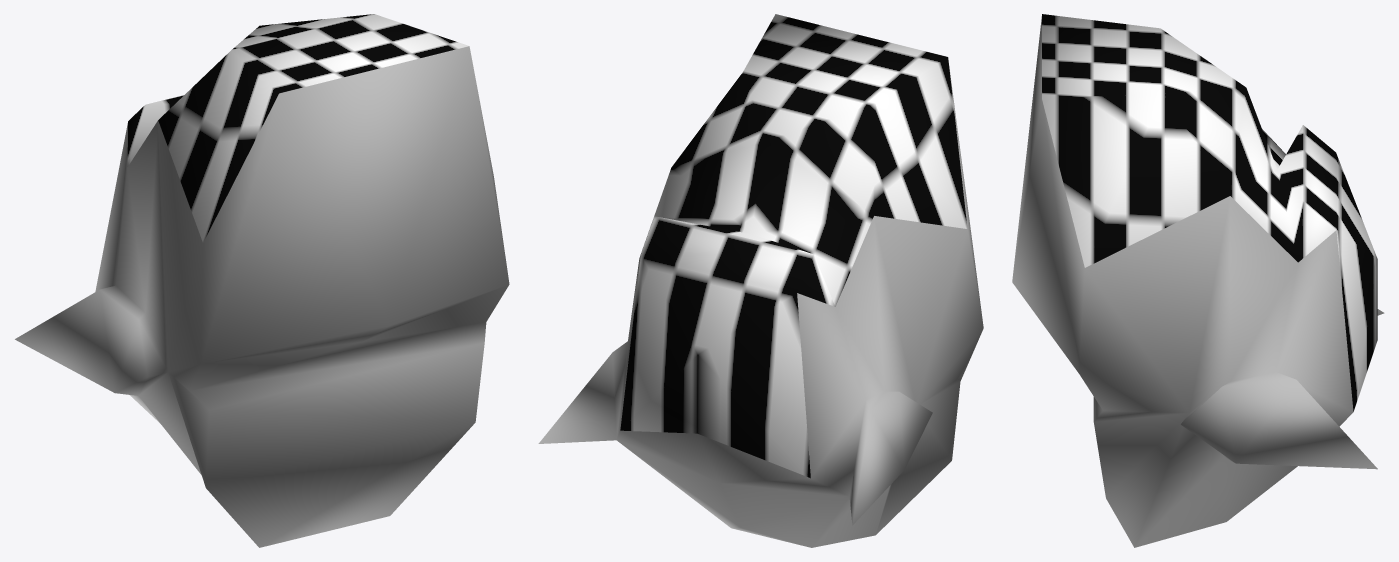
File: infaunmoor.dae
The picture shows the model from 3 angles, left to right: view 1: azimuth 30°, elevation 25°; view 2: azimuth 150°, elevation 25°; view 3: azimuth 270°, elevation 25°; orthographic projection. The views are drawn at different scales.
Visible parts, largest first — view 1: face; view 2: face; view 3: face.
Part boxes in pixels (<box>): face: <box>15,14,509,547</box>; face: <box>538,14,983,547</box>; face: <box>1012,14,1384,547</box>.
Bounding box in the file's own units: 1.3 × 1.29 × 1.77.
1 material, 1 textured.
